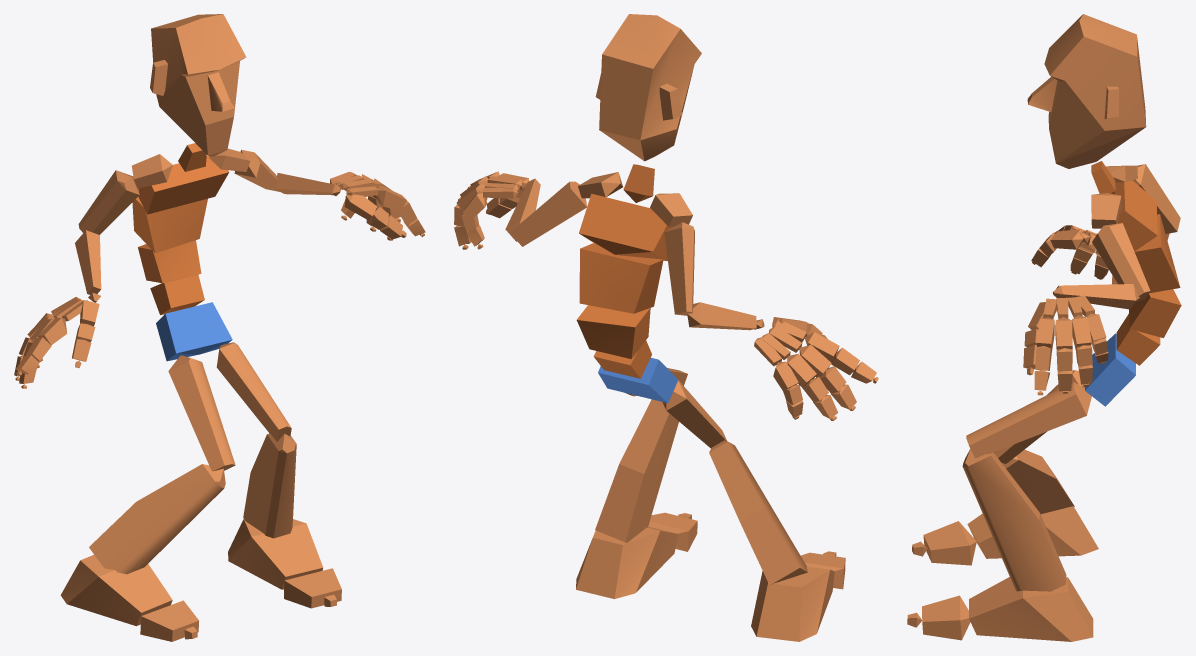
File: prueba212.obj
The picture shows the model from 3 angles, left to right: view 1: azimuth 30°, elevation 25°; view 2: azimuth 150°, elevation 25°; view 3: azimuth 270°, elevation 25°; orthographic projection. The views are drawn at different scales.
Visible parts, largest first — view 1: BOPED_Head, BOPED_R_leg, BOPED_R_foot, BOPED_L_leg, BOPED_R_foot01, BOPED_R_legup, Bone01, BOPED_L_legup, Bone04, Bone05, BOPED_R_arm_upper, Bone03 (+9 smaller); view 2: BOPED_Head, BOPED_L_leg, BOPED_R_leg, BOPED_R_foot01, BOPED_R_foot, Bone04, Bone05, Bone03, BOPED_R_arm_upper, BOPED_L_arm_upper, Bone01, BOPED_R_legup (+8 smaller); view 3: BOPED_Head, BOPED_L_leg, BOPED_R_foot01, BOPED_L_legup, BOPED_R_foot, BOPED_R_leg, BOPED_L_arm_upper, Bone05, Bone01, Bone04, Bone03, BOPED_R_foot_toe01 (+12 smaller).
Part boxes in pixels (x1=…): BOPED_Head: x1=150, y1=14, x2=246, y2=156; BOPED_R_leg: x1=89, y1=464, x2=225, y2=574; BOPED_R_foot: x1=60, y1=555, x2=172, y2=626; BOPED_L_leg: x1=243, y1=433, x2=296, y2=538; BOPED_R_foot01: x1=228, y1=519, x2=323, y2=589; BOPED_R_legup: x1=168, y1=355, x2=235, y2=471; Bone01: x1=156, y1=302, x2=232, y2=361; BOPED_L_legup: x1=216, y1=342, x2=291, y2=441; Bone04: x1=132, y1=197, x2=207, y2=253; Bone05: x1=138, y1=155, x2=229, y2=214; BOPED_R_arm_upper: x1=78, y1=170, x2=139, y2=234; Bone03: x1=138, y1=240, x2=201, y2=283; BOPED_Head: x1=595, y1=14, x2=701, y2=161; BOPED_L_leg: x1=595, y1=399, x2=678, y2=542; BOPED_R_leg: x1=709, y1=440, x2=807, y2=585; BOPED_R_foot01: x1=576, y1=526, x2=678, y2=598; BOPED_R_foot: x1=751, y1=567, x2=834, y2=641; Bone04: x1=579, y1=243, x2=663, y2=313; Bone05: x1=579, y1=193, x2=673, y2=260; Bone03: x1=576, y1=305, x2=650, y2=358; BOPED_R_arm_upper: x1=664, y1=222, x2=694, y2=315; BOPED_L_arm_upper: x1=511, y1=181, x2=586, y2=246; Bone01: x1=598, y1=357, x2=678, y2=403; BOPED_R_legup: x1=662, y1=380, x2=726, y2=448; BOPED_Head: x1=1027, y1=14, x2=1146, y2=168; BOPED_L_leg: x1=962, y1=449, x2=1066, y2=591; BOPED_R_foot01: x1=969, y1=577, x2=1093, y2=641; BOPED_L_legup: x1=966, y1=382, x2=1091, y2=458; BOPED_R_foot: x1=967, y1=506, x2=1098, y2=558; BOPED_R_leg: x1=1002, y1=449, x2=1074, y2=514; BOPED_L_arm_upper: x1=1092, y1=223, x2=1150, y2=301; Bone05: x1=1114, y1=180, x2=1157, y2=251; Bone01: x1=1085, y1=333, x2=1135, y2=406; Bone04: x1=1134, y1=214, x2=1180, y2=293; Bone03: x1=1129, y1=289, x2=1181, y2=337; BOPED_R_foot_toe01: x1=923, y1=521, x2=976, y2=565.
Size of the model in its own units: 130 by 170 by 72.78.
